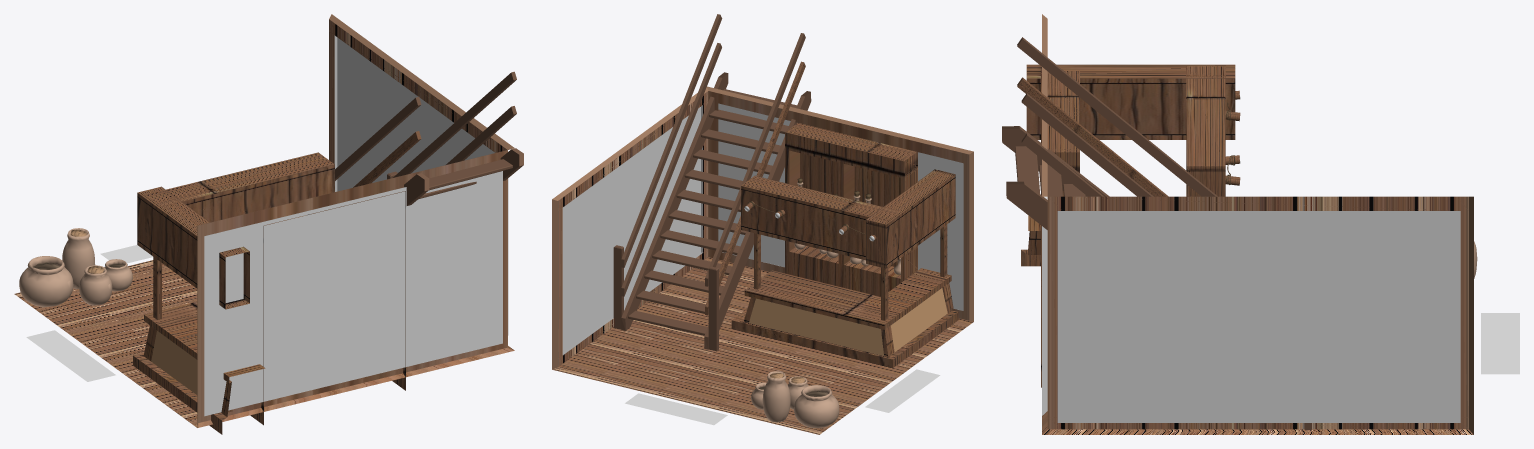
Rendered from Bar.fbx.
The picture shows the model from 3 angles, left to right: view 1: azimuth 30°, elevation 25°; view 2: azimuth 150°, elevation 25°; view 3: azimuth 270°, elevation 25°; orthographic projection. The views are drawn at different scales.
Parts seen in each view (by area): view 1: Plane, Cube.004, stairs.lwo, Earthenware Pot, Plane.002, Cube.006, Plane.001; view 2: Plane, Cube.004, stairs.lwo, Cube.006, Earthenware Pot, Plane.001, Plane.002; view 3: Plane, Cube.004, stairs.lwo, Plane.001, Cube.006.
Part boxes in pixels (left/top/right/bottom): Plane: left=14, top=14, right=514, bottom=427; Cube.004: left=133, top=152, right=334, bottom=434; stairs.lwo: left=335, top=71, right=523, bottom=205; Earthenware Pot: left=19, top=228, right=132, bottom=307; Plane.002: left=26, top=330, right=115, bottom=381; Cube.006: left=250, top=191, right=405, bottom=425; Plane.001: left=100, top=245, right=152, bottom=263; Plane: left=552, top=86, right=973, bottom=434; Cube.004: left=731, top=169, right=959, bottom=367; stairs.lwo: left=613, top=14, right=811, bottom=351; Cube.006: left=785, top=123, right=917, bottom=296; Earthenware Pot: left=751, top=371, right=839, bottom=428; Plane.001: left=625, top=393, right=727, bottom=425; Plane.002: left=865, top=369, right=940, bottom=412; Plane: left=1042, top=14, right=1473, bottom=434; Cube.004: left=1021, top=64, right=1235, bottom=266; stairs.lwo: left=1002, top=37, right=1311, bottom=430; Plane.001: left=1481, top=313, right=1519, bottom=374; Cube.006: left=1041, top=71, right=1079, bottom=387.
Bounding box in the file's own units: 2456 × 1987 × 2651.
